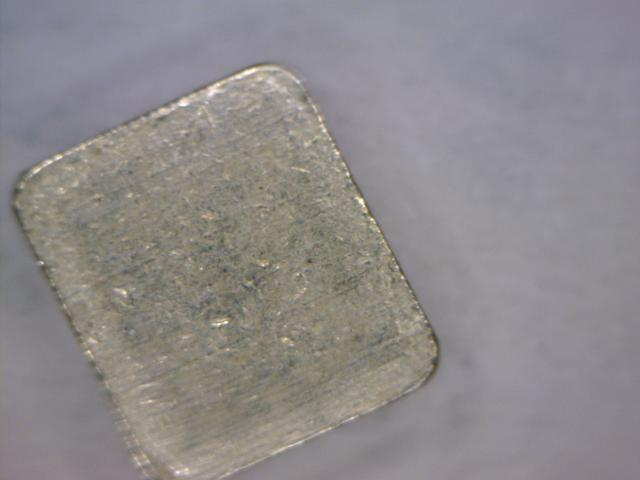ok: (7, 54, 445, 450)
